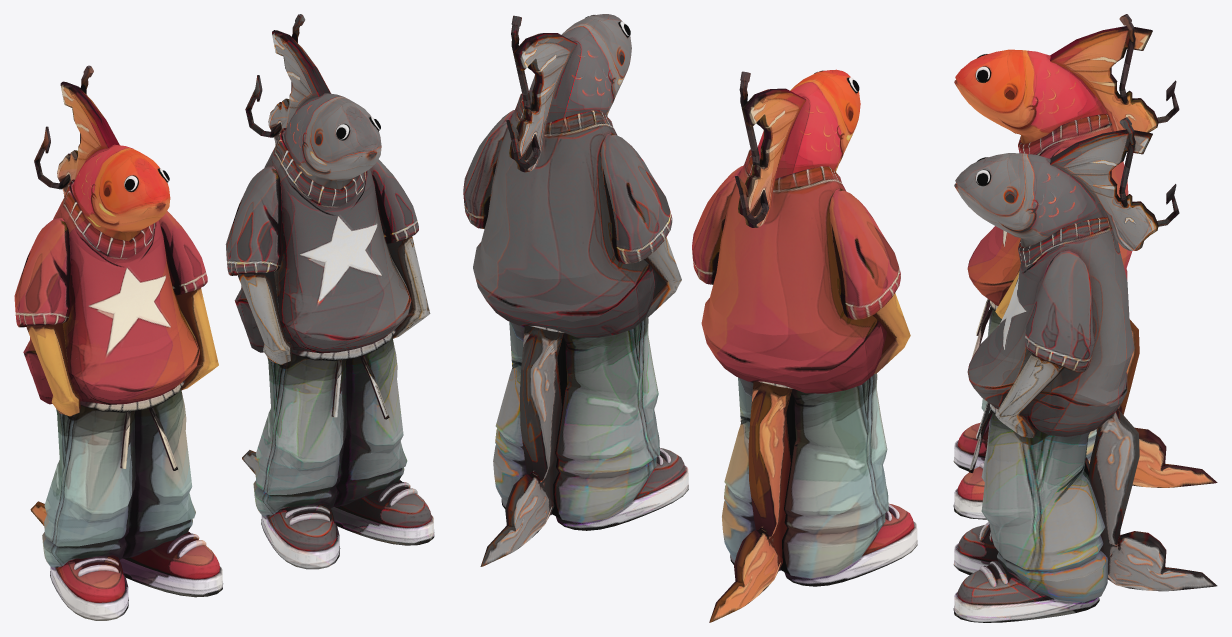
Rendered from koifishcorrectglb.glb.
3 renders of one model, left to right at view 1: azimuth 30°, elevation 25°; view 2: azimuth 150°, elevation 25°; view 3: azimuth 270°, elevation 25°, orthographic. The views are drawn at different scales.
Visible parts, largest first — view 1: Cube.023_2, Cube.030_19, Cylinder.009_4, Cylinder.012_21, Cube.024_3, Cube.031_20, Cube.022_1, Cube.029_18, Cylinder.013_23, Cylinder.010_6, Cube.025_5, Cube.032_22 (+12 smaller); view 2: Cube.023_2, Cube.030_19, Cylinder.012_21, Cylinder.009_4, Plane.014_13, Plane.017_30, Cube.031_20, Cube.024_3, Cube.022_1, Cube.029_18, Plane.015_15, Plane.018_32 (+8 smaller); view 3: Cylinder.012_21, Cube.030_19, Cube.029_18, Cube.022_1, Plane.017_30, Cube.031_20, Plane.018_32, Cube.023_2, Plane.015_15, Cube.032_22, Plane.014_13, Cube.033_24 (+9 smaller).
Boxes of the visible parts, x1,y1,x2,y2 form: Cube.023_2: (23,179,199,404); Cube.030_19: (234,128,411,353); Cylinder.009_4: (42,389,195,567); Cylinder.012_21: (253,337,407,516); Cube.024_3: (14,211,207,327); Cube.031_20: (225,159,418,275); Cube.022_1: (72,144,170,241); Cube.029_18: (284,93,381,189); Cylinder.013_23: (238,236,430,364); Cylinder.010_6: (26,288,218,416); Cube.025_5: (56,531,220,602); Cube.032_22: (267,480,431,551); Cube.023_2: (701,149,886,393); Cube.030_19: (473,93,658,337); Cylinder.012_21: (493,318,660,522); Cylinder.009_4: (722,373,888,578); Plane.014_13: (709,381,791,622); Plane.017_30: (480,325,563,566); Cube.031_20: (463,110,672,263); Cube.024_3: (692,166,900,319); Cube.022_1: (757,69,860,178); Cube.029_18: (529,14,631,122); Plane.015_15: (738,88,806,227); Plane.018_32: (509,33,577,172); Cylinder.012_21: (981,409,1107,602); Cube.030_19: (967,216,1134,436); Cube.029_18: (954,153,1107,247); Cube.022_1: (954,49,1107,143); Plane.017_30: (1088,408,1217,591); Cube.031_20: (1024,250,1095,372); Plane.018_32: (1050,129,1158,250); Cube.023_2: (967,113,1132,305); Plane.015_15: (1050,26,1158,132); Cube.032_22: (957,525,1053,605); Plane.014_13: (1118,319,1217,487); Cube.033_24: (953,543,1099,622).
Bounding box in the file's own units: 5.87 × 6.85 × 3.43.
2 materials, 2 textured.
